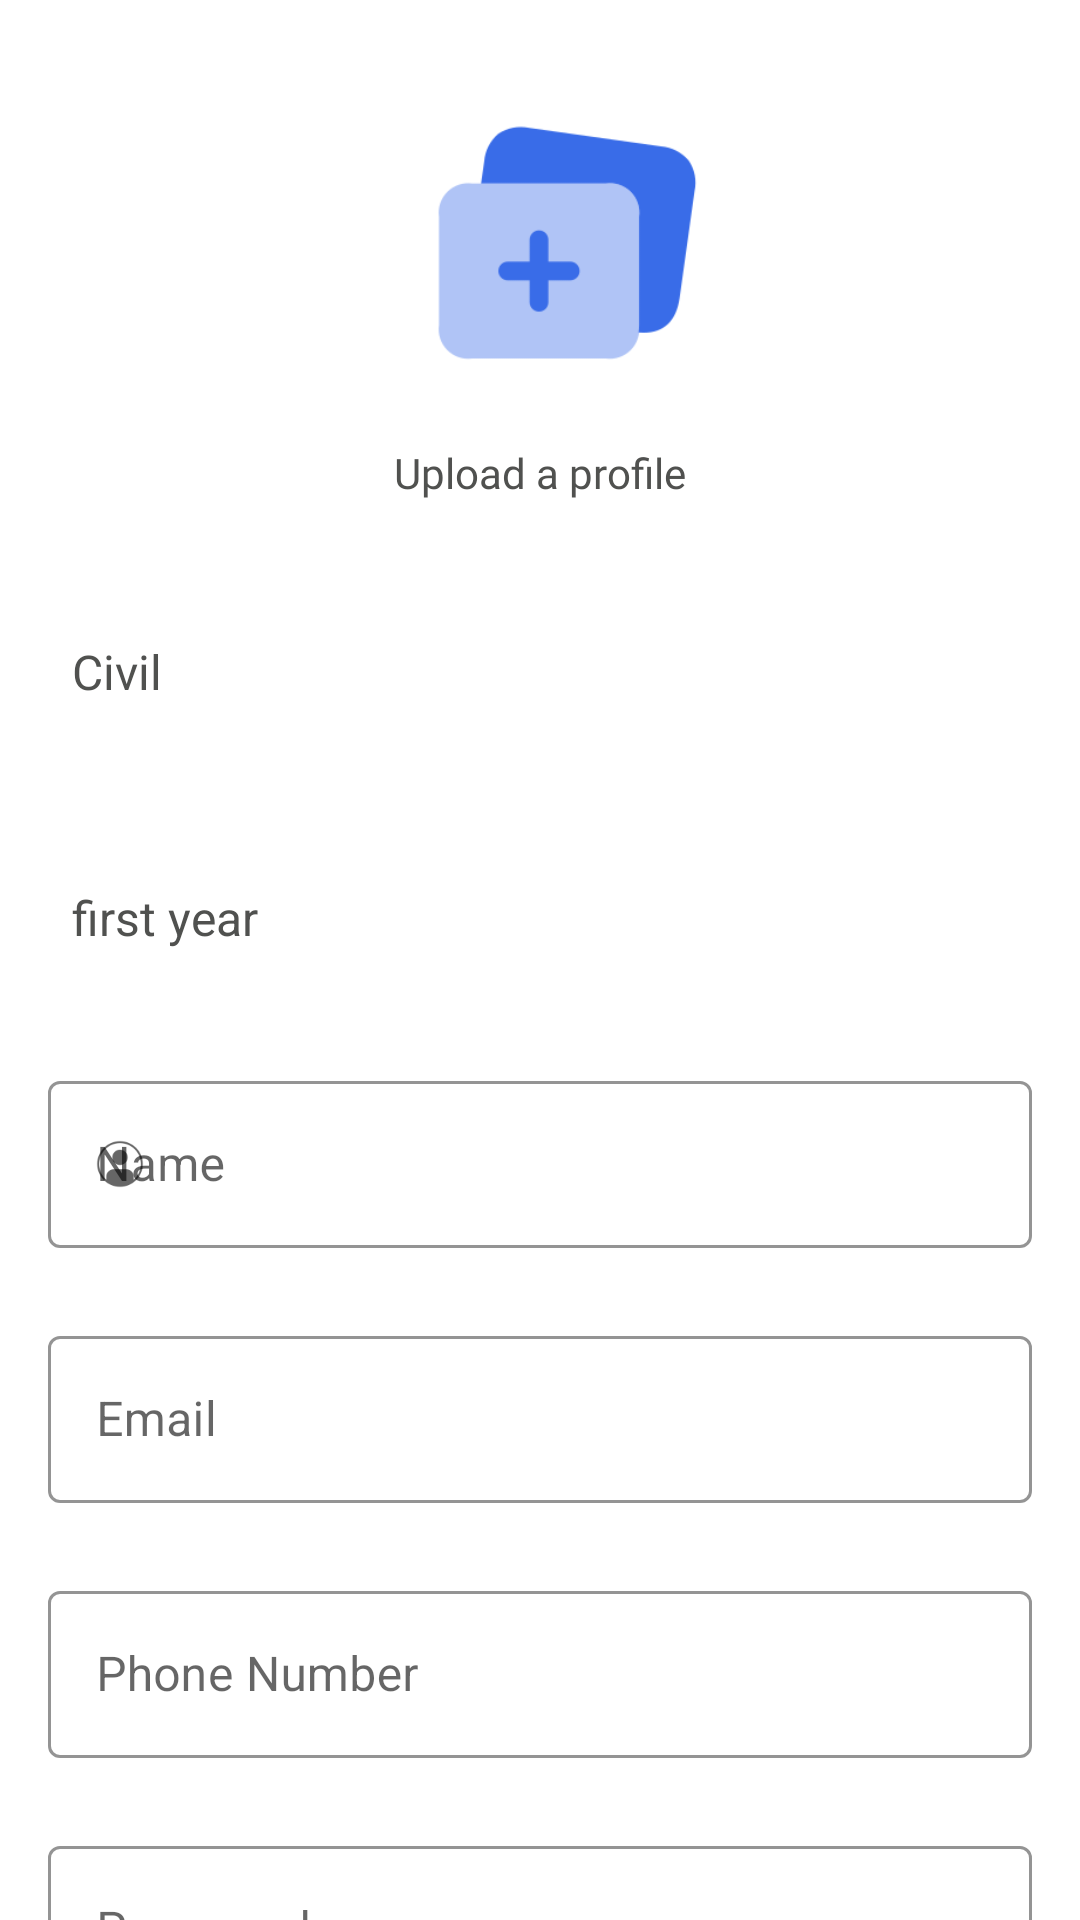

Where icons sit on this 1080×1920 app screen, as bbox=(x1, y1, x2, y2):
gallery: bbox=(438, 126, 696, 359)
